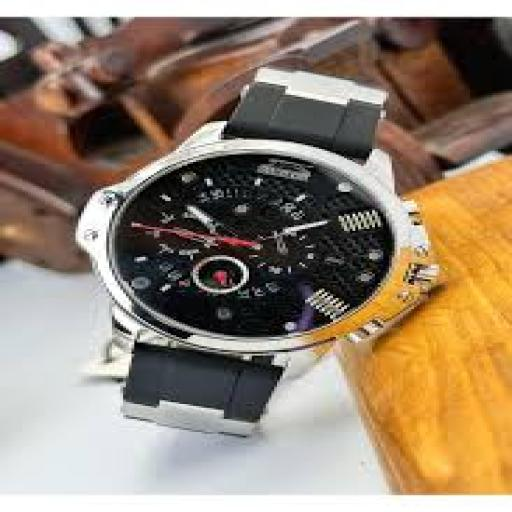KolSaati: (37, 36, 468, 439)
